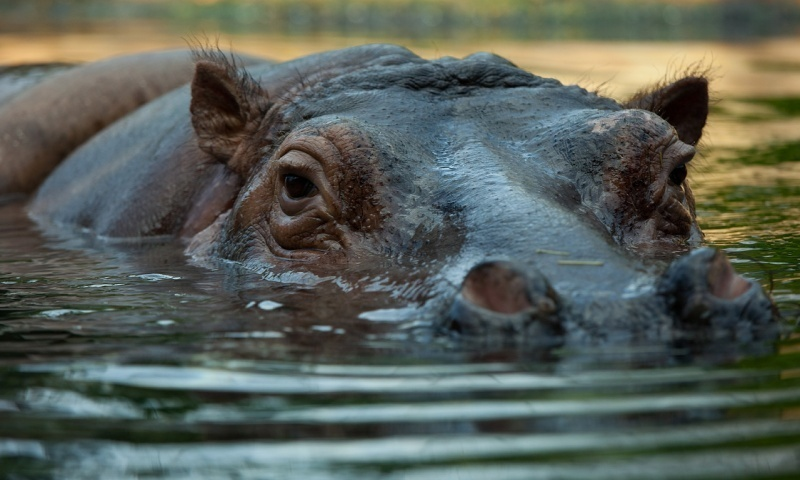hipopotamo: (8, 23, 797, 368)
